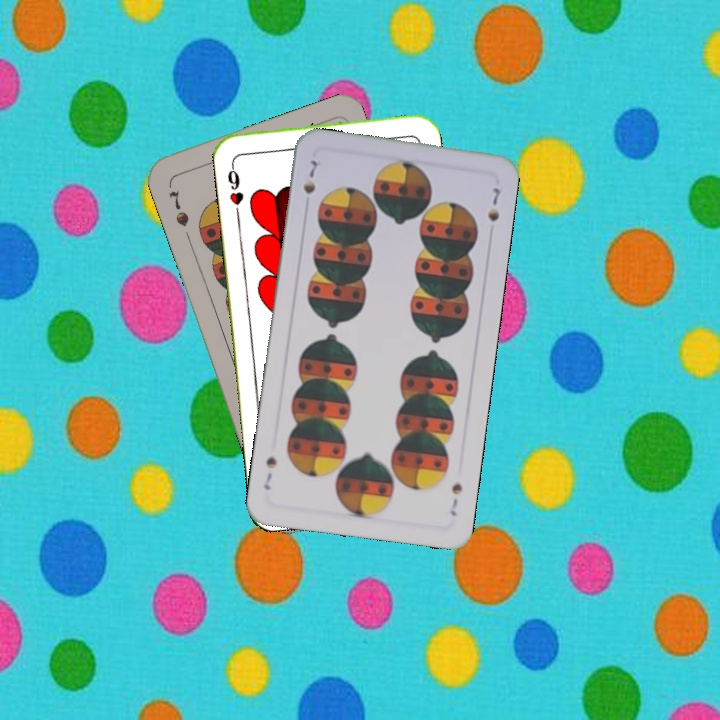H9: (223, 157, 246, 217)
S7: (164, 186, 192, 229), (299, 154, 321, 197), (446, 479, 465, 519)
